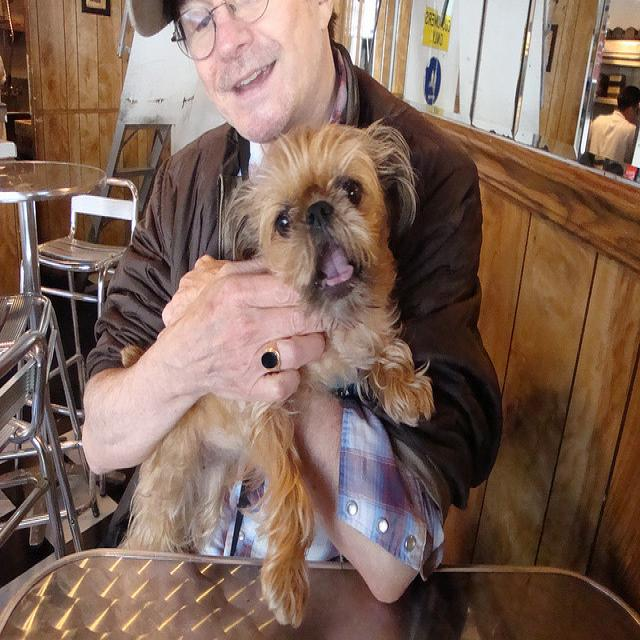chair: (1, 258, 68, 562), (31, 179, 142, 319), (24, 254, 38, 282)
dining table: (2, 556, 640, 640), (0, 160, 107, 295)
